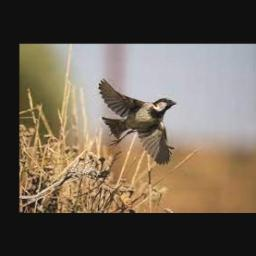Sparrow: (98, 78, 177, 165)
